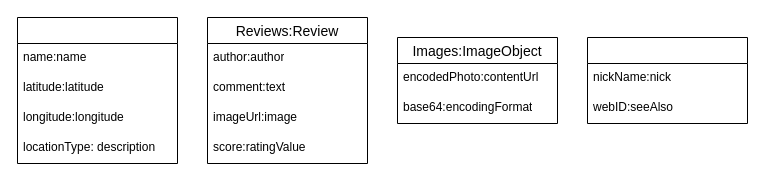
Image size: 765x184. Some labels were removed from this diagram. Each missing label, with the box of its shape:
Friends:Person: (586, 36, 748, 124)
Locations:Location: (16, 16, 178, 164)
